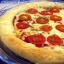pepperoni: (46, 30, 63, 48), (41, 9, 62, 22), (27, 32, 46, 46), (17, 13, 32, 24), (35, 15, 49, 25), (26, 5, 39, 15), (38, 25, 53, 32), (55, 22, 64, 33), (15, 23, 31, 29)
pizza: (1, 1, 64, 64)
